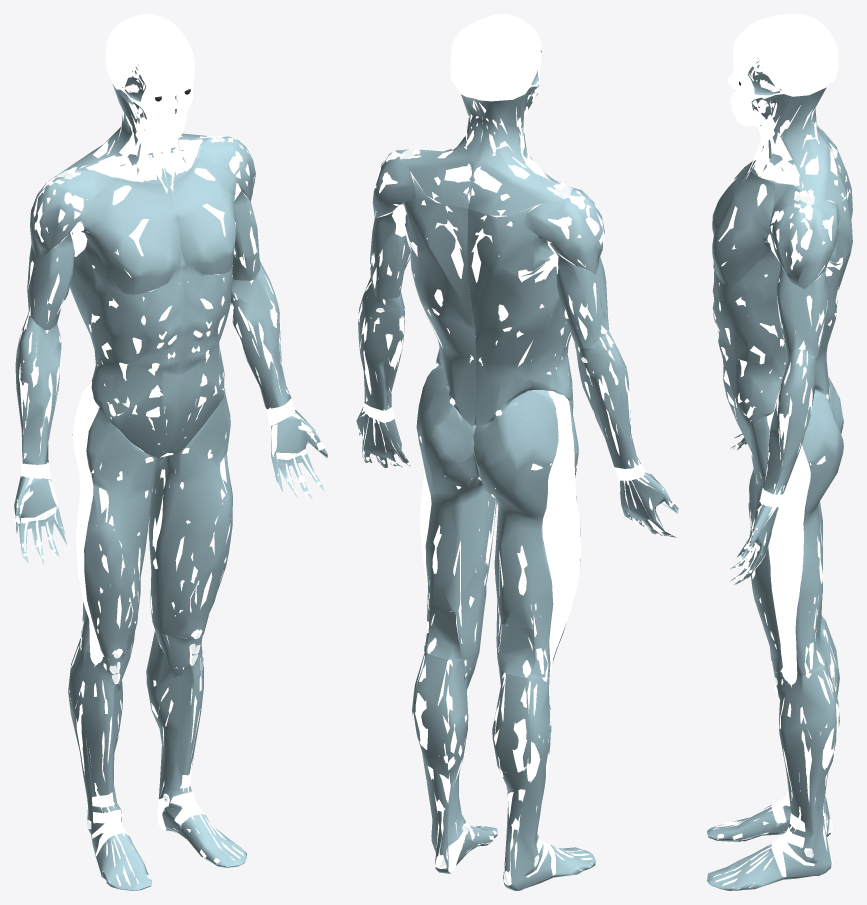
File: respiratorio.glb
3 renders of one model, left to right at view 1: azimuth 30°, elevation 25°; view 2: azimuth 150°, elevation 25°; view 3: azimuth 270°, elevation 25°, orthographic. The views are drawn at different scales.
Parts seen in each view (by area): view 1: Investing abdominal fascia.r, Fascia lata.l, Fascia lata.r, Crural fascia.l, Crural fascia.r, Pectoral fascia.r, Investing abdominal fascia.l, Pectoral fascia.l, Antebrachial fascia.r, Antebrachial fascia.l, Deltoid fascia.r, Iliotibial tract.r (+15 smaller); view 2: Investing abdominal fascia.r, Fascia lata.r, Fascia lata.l, Investing abdominal fascia.l, Crural fascia.r, Crural fascia.l, Iliotibial tract.r, Superficial investing cervical fascia.r, Antebrachial fascia.r, Antebrachial fascia.l, Deltoid fascia.r, Superficial investing cervical fascia.l (+16 smaller); view 3: Investing abdominal fascia.l, Crural fascia.l, Fascia lata.l, Iliotibial tract.l, Pectoral fascia.l, Superficial investing cervical fascia.l, Deltoid fascia.l, Antebrachial fascia.l, Brachial fascia.l, Epicranial aponeurosis.l, Crural fascia.r, Temporoparietalis muscle.l (+18 smaller).
Part boxes in pixels (x1,y1,x2,y2): Investing abdominal fascia.r: (70,239,184,457); Fascia lata.l: (148,391,232,638); Fascia lata.r: (72,380,163,659); Crural fascia.l: (146,626,246,867); Crural fascia.r: (68,639,151,890); Pectoral fascia.r: (78,179,182,294); Investing abdominal fascia.l: (168,264,232,453); Pectoral fascia.l: (167,158,237,274); Antebrachial fascia.r: (15,315,61,464); Antebrachial fascia.l: (231,261,291,409); Deltoid fascia.r: (30,170,113,256); Iliotibial tract.r: (73,381,106,670); Investing abdominal fascia.r: (467,207,573,426); Fascia lata.r: (473,390,580,678); Fascia lata.l: (416,364,496,658); Investing abdominal fascia.l: (400,177,475,425); Crural fascia.r: (492,667,595,890); Crural fascia.l: (412,651,497,873); Iliotibial tract.r: (542,391,580,678); Superficial investing cervical fascia.r: (468,87,569,215); Antebrachial fascia.r: (574,330,640,468); Antebrachial fascia.l: (358,278,404,410); Deltoid fascia.r: (521,173,604,274); Superficial investing cervical fascia.l: (398,94,482,208); Investing abdominal fascia.l: (712,196,852,448); Crural fascia.l: (707,658,839,890); Fascia lata.l: (749,389,843,675); Iliotibial tract.l: (767,412,810,684); Pectoral fascia.l: (712,170,774,286); Superficial investing cervical fascia.l: (751,87,846,205); Deltoid fascia.l: (769,184,841,289); Antebrachial fascia.l: (763,349,818,494); Brachial fascia.l: (776,262,828,358); Epicranial aponeurosis.l: (737,18,838,77); Crural fascia.r: (707,618,839,841); Temporoparietalis muscle.l: (758,47,820,96).
Size of the model in its own units: 0.6662 by 1.7 by 0.2673.
